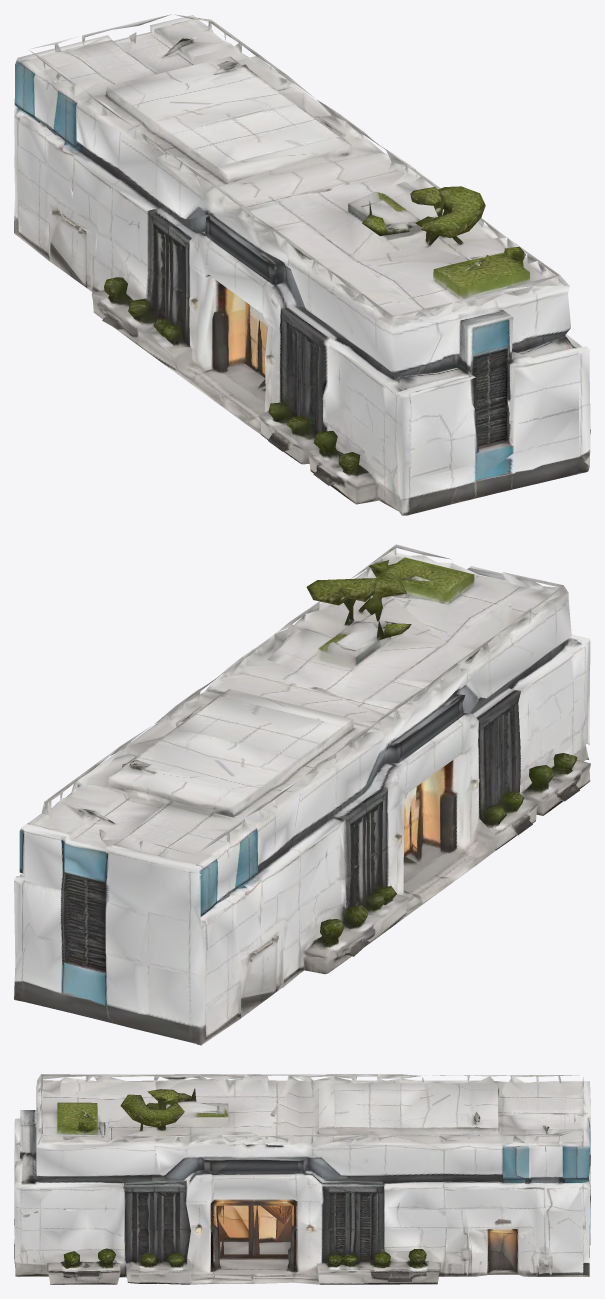
The model's file is podiumSegment.glb.
3 views of the same model, one above another, from view 1: azimuth 30°, elevation 25°; view 2: azimuth 150°, elevation 25°; view 3: azimuth 270°, elevation 25° (orthographic). The views are drawn at different scales.
Visible parts, largest first — view 1: podiumSegment; view 2: podiumSegment; view 3: podiumSegment.
Part boxes in pixels (bbox=[...]): podiumSegment: bbox=[14, 14, 590, 515]; podiumSegment: bbox=[14, 544, 590, 1045]; podiumSegment: bbox=[14, 1074, 590, 1284].
Size of the model in its own units: 14.87 by 12.45 by 40.
1 material, 1 textured.
